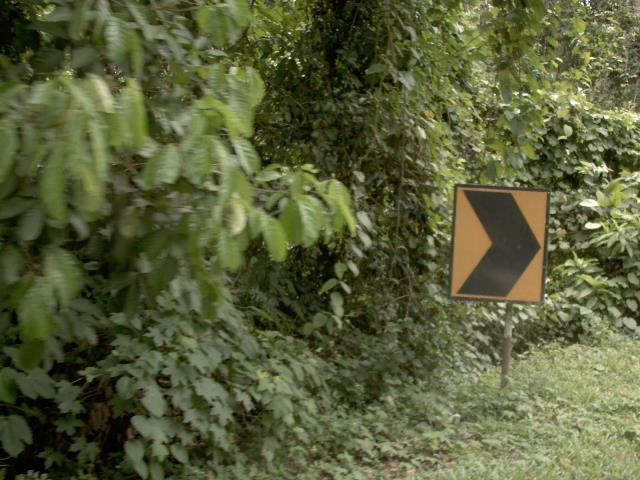traffic_sign: (436, 167, 561, 318)
